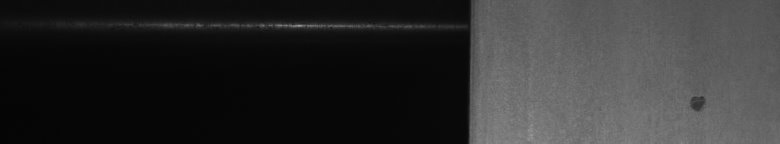fi: (684, 90, 711, 120)
